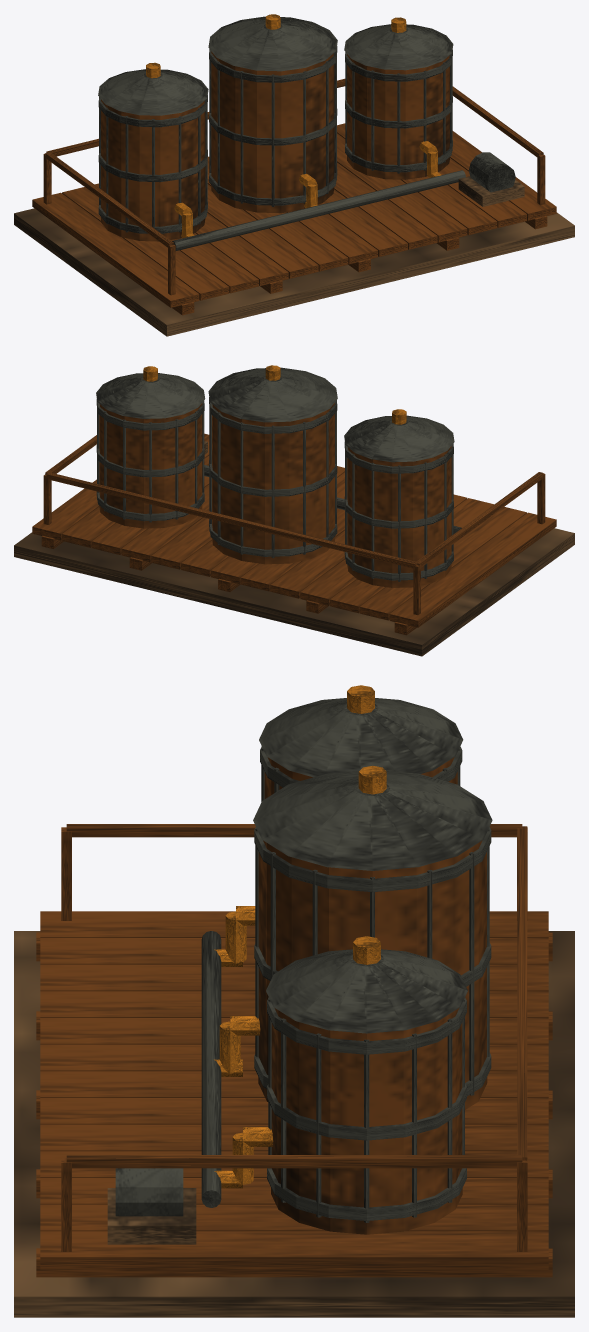
The model's file is east-horizon-fuel-reserve.glb.
3 renders of one model, top to bottom at view 1: azimuth 30°, elevation 25°; view 2: azimuth 150°, elevation 25°; view 3: azimuth 270°, elevation 25°, orthographic. The views are drawn at different scales.
Visible parts, largest first — view 1: east-horizon-fuel-reserve; view 2: east-horizon-fuel-reserve; view 3: east-horizon-fuel-reserve.
Boxes of the visible parts, x1,y1,x2,y2 form: east-horizon-fuel-reserve: [14, 14, 574, 336]; east-horizon-fuel-reserve: [14, 365, 574, 656]; east-horizon-fuel-reserve: [14, 685, 574, 1317].
Bounding box in the file's own units: 7.4 × 3.43 × 4.8.
Materials: 1 (1 with a texture image).
